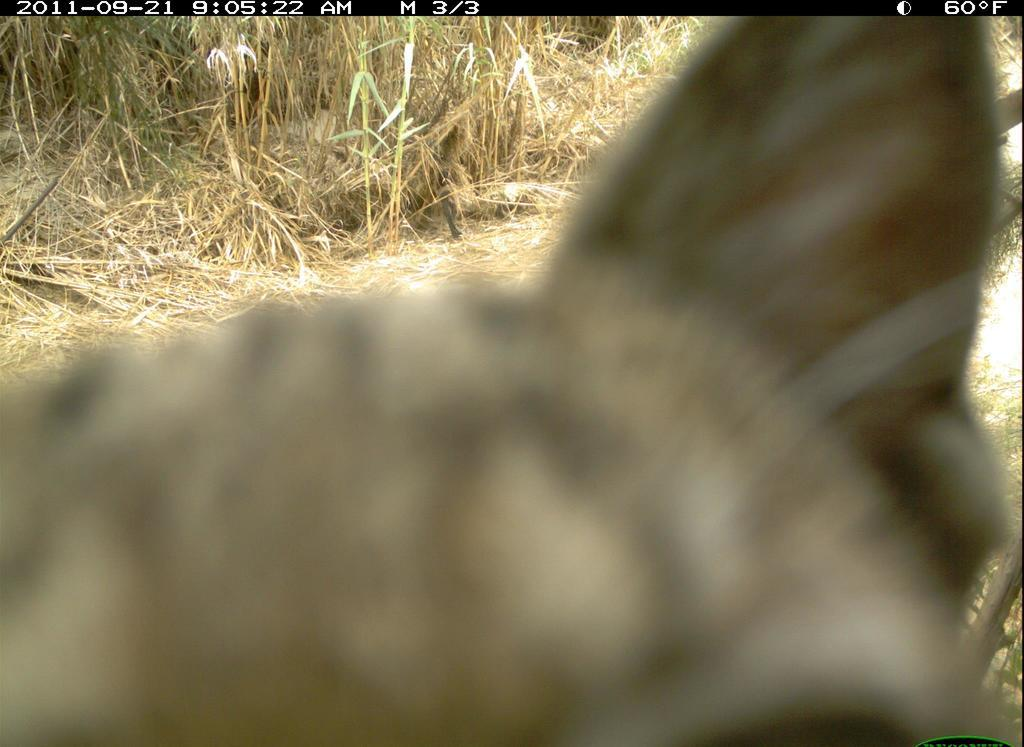bobcat: (2, 17, 1017, 747)
